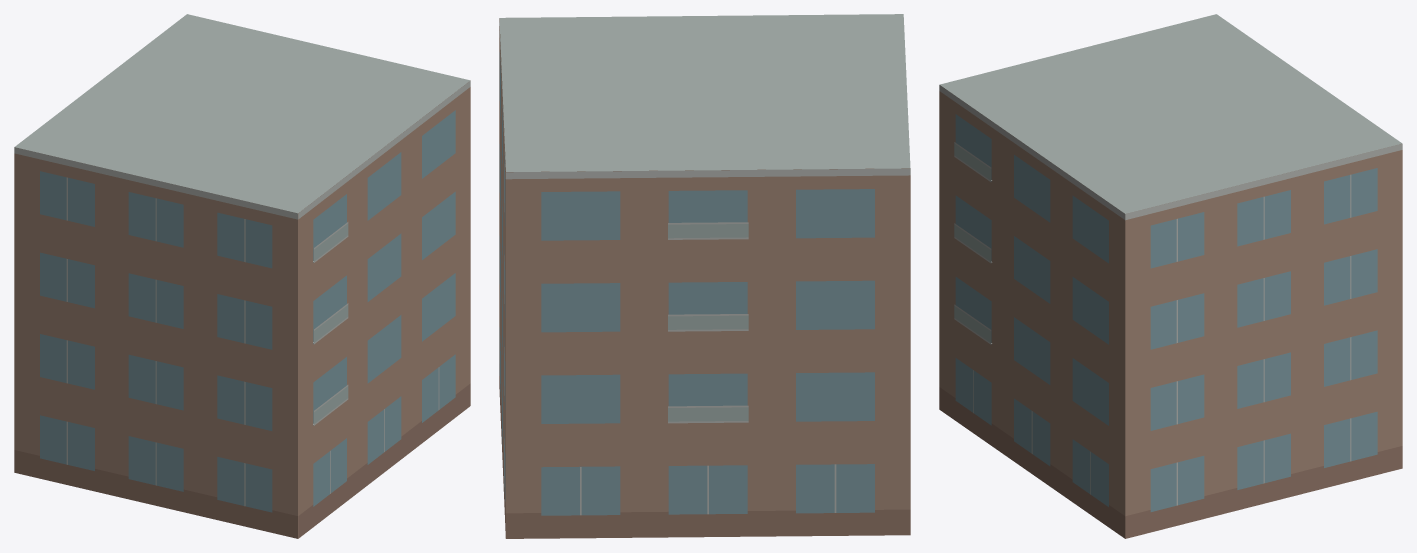
Rendered from survey-upis-32922654.glb.
3 renders of one model, left to right at view 1: azimuth 30°, elevation 25°; view 2: azimuth 150°, elevation 25°; view 3: azimuth 270°, elevation 25°, orthographic. The views are drawn at different scales.
Parts seen in each view (by area): view 1: survey-upis-32922654.tmp; view 2: survey-upis-32922654.tmp; view 3: survey-upis-32922654.tmp.
Part boxes in pixels (bbox=[...]): survey-upis-32922654.tmp: bbox=[14, 14, 470, 538]; survey-upis-32922654.tmp: bbox=[499, 14, 910, 538]; survey-upis-32922654.tmp: bbox=[939, 14, 1402, 538].
Bounding box in the file's own units: 16.64 × 12.6 × 16.29.
